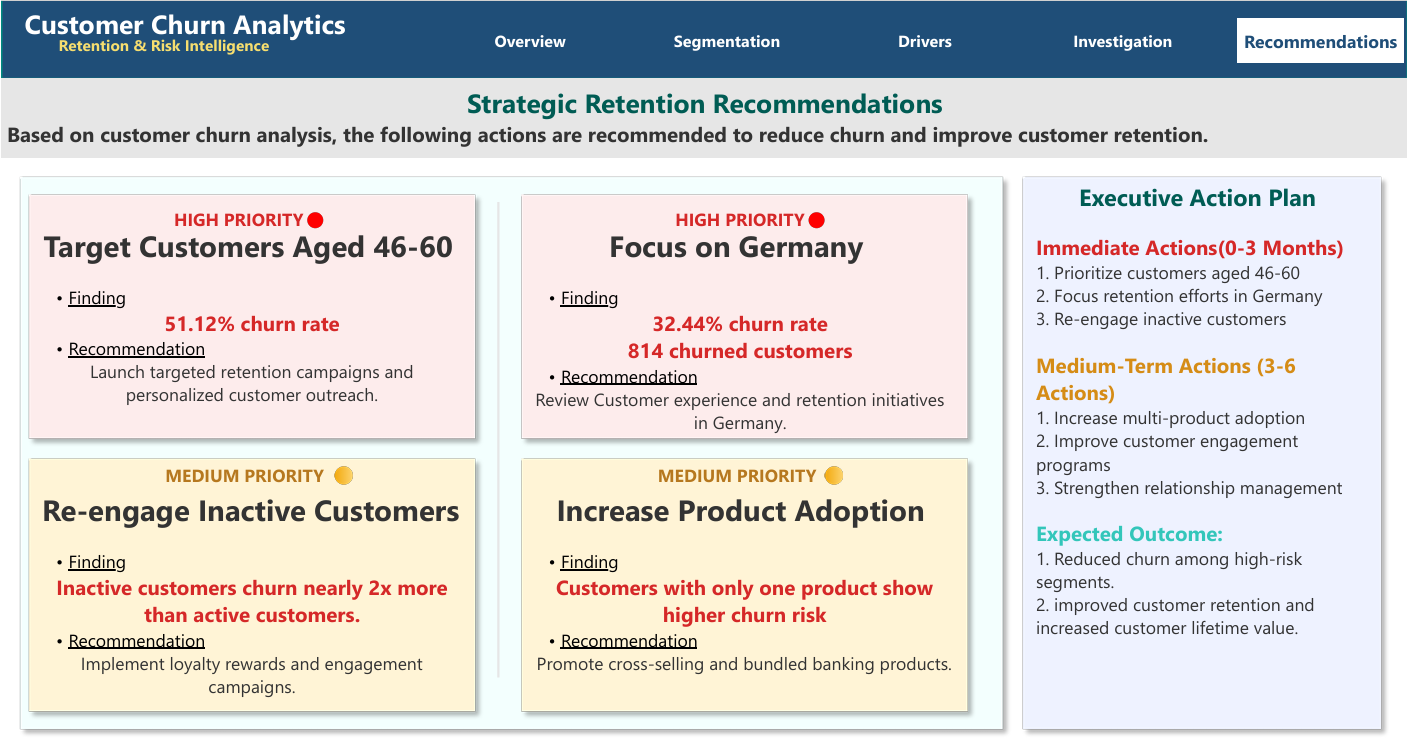

The page's visual inventory and layout, read from the dashboard file:
{"tool":"powerbi","page":{"name":"Recommendations","canvas":[1280,720],"ordinal":4},"visuals":[{"type":"shape","box":[0,0,1280,104.1],"z":0},{"type":"textbox","box":[16,32,304,56],"z":1000},{"type":"textbox","box":[46.5,59.4,212.8,44.5],"z":2000},{"type":"actionButton","box":[584,49.5,152.4,39.6],"z":3000},{"type":"actionButton","box":[764,49.5,152.4,39.6],"z":4000},{"type":"actionButton","box":[944,49.5,152.4,39.6],"z":5000},{"type":"actionButton","box":[1124,49.5,152.4,39.6],"z":6000},{"type":"actionButton","box":[404.8,49.5,152.4,39.6],"z":7000},{"type":"shape","box":[0,104,1280,72],"z":7001},{"type":"textbox","box":[0,104,1280,72],"z":7002},{"type":"shape","box":[8,184,912,520],"z":7003},{"type":"shape","box":[16,200,424,240],"z":7004},{"type":"shape","box":[464,200,424,240],"z":7005},{"type":"shape","box":[16,440,424,248],"z":7006},{"type":"shape","box":[464,440,424,248],"z":7007},{"type":"shape","box":[920,184,344,520],"z":7008},{"type":"shape","box":[440,216,24,432],"z":7009},{"type":"textbox","box":[152,216,160,48],"z":7010},{"type":"textbox","box":[608,216,152,48],"z":7011},{"type":"textbox","box":[144,448,184,40],"z":7012},{"type":"textbox","box":[592,448,200,40],"z":7013},{"type":"textbox","box":[32,232,392,184],"z":7014},{"type":"textbox","box":[480,232,384,200],"z":7015},{"type":"textbox","box":[32,472,392,216],"z":7016},{"type":"textbox","box":[480,472,392,208],"z":7017},{"type":"image","box":[270,219,30,27],"z":7018},{"type":"image","box":[726,219,30,27],"z":7019},{"type":"image","box":[296,451,30,27],"z":7020},{"type":"image","box":[742,451,30,27],"z":7021},{"type":"textbox","box":[936,192,304,496],"z":7022}]}

Visuals, with their boxes on the page's 1280x720 design canvas (x1, y1, x2, y2). These are canvas units, not pixel positions in the 1407x746 screenshot, which may show the page scaled, cropped or inside an application window:
shape: 0, 0, 1280, 104
textbox: 16, 32, 320, 88
textbox: 46, 59, 259, 104
actionButton: 584, 50, 736, 89
actionButton: 764, 50, 916, 89
actionButton: 944, 50, 1096, 89
actionButton: 1124, 50, 1276, 89
actionButton: 405, 50, 557, 89
shape: 0, 104, 1280, 176
textbox: 0, 104, 1280, 176
shape: 8, 184, 920, 704
shape: 16, 200, 440, 440
shape: 464, 200, 888, 440
shape: 16, 440, 440, 688
shape: 464, 440, 888, 688
shape: 920, 184, 1264, 704
shape: 440, 216, 464, 648
textbox: 152, 216, 312, 264
textbox: 608, 216, 760, 264
textbox: 144, 448, 328, 488
textbox: 592, 448, 792, 488
textbox: 32, 232, 424, 416
textbox: 480, 232, 864, 432
textbox: 32, 472, 424, 688
textbox: 480, 472, 872, 680
image: 270, 219, 300, 246
image: 726, 219, 756, 246
image: 296, 451, 326, 478
image: 742, 451, 772, 478
textbox: 936, 192, 1240, 688
